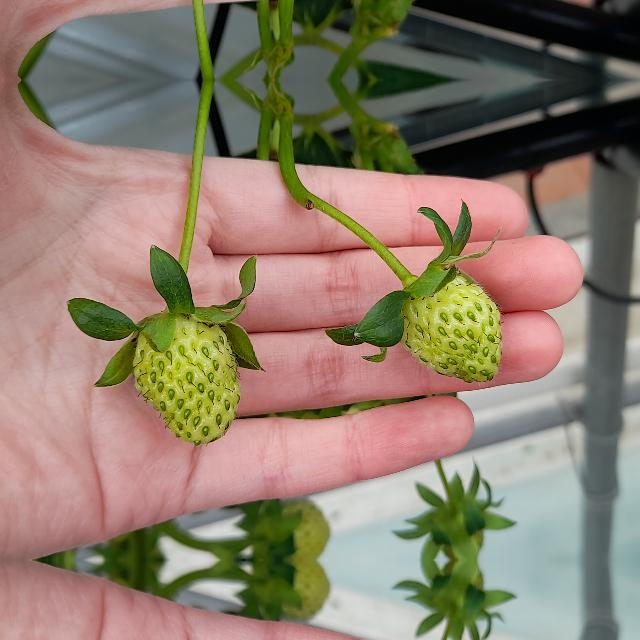Health_25: (132, 312, 240, 446), (402, 270, 504, 384)
